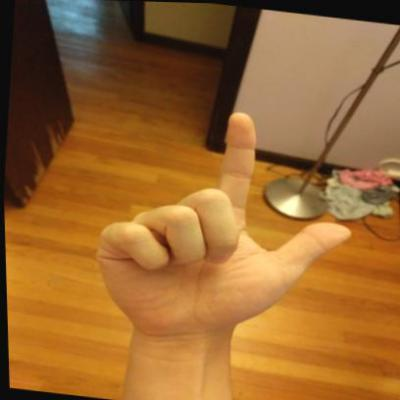hand: (80, 91, 368, 358)
